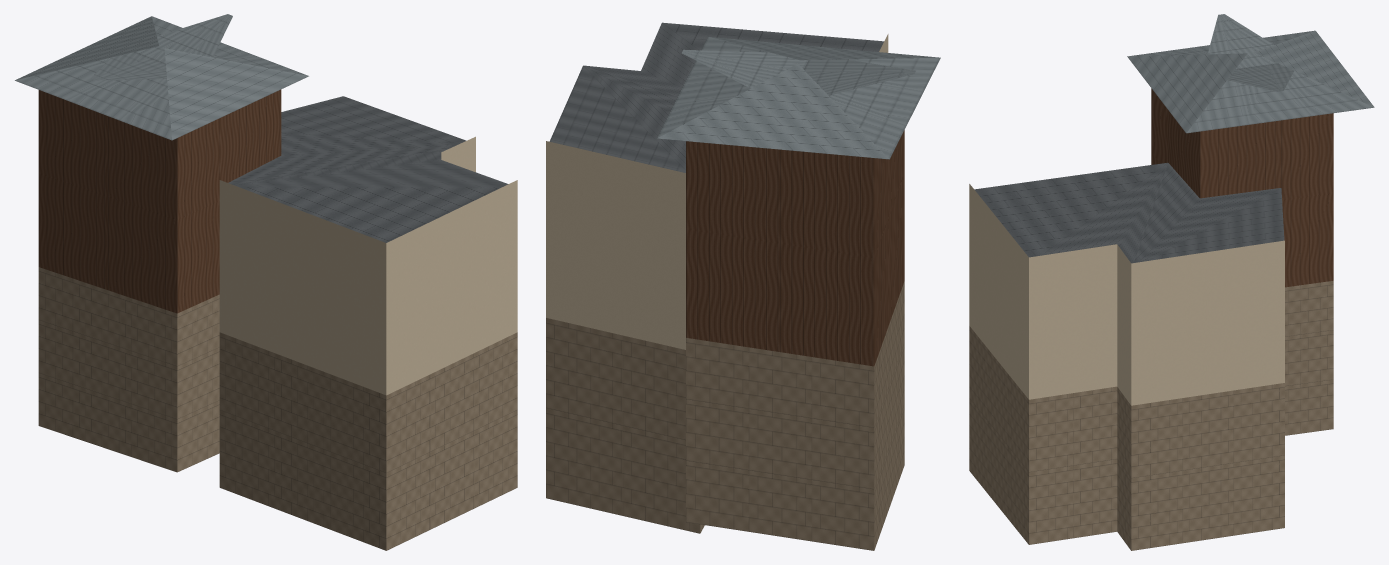
File: bld_c34_-40_443.gltf
3 views of the same model, side by side, from view 1: azimuth 30°, elevation 25°; view 2: azimuth 150°, elevation 25°; view 3: azimuth 270°, elevation 25° (orthographic). The views are drawn at different scales.
Parts seen in each view (by area): view 1: bld_c34_-40_443; view 2: bld_c34_-40_443; view 3: bld_c34_-40_443.
Part boxes in pixels (x1,y1,x2,y2): bld_c34_-40_443: (15,14,517,550); bld_c34_-40_443: (546,22,940,550); bld_c34_-40_443: (969,14,1374,550).
Bounding box in the file's own units: 12.18 × 13.2 × 12.63.
6 materials, 6 textured.
